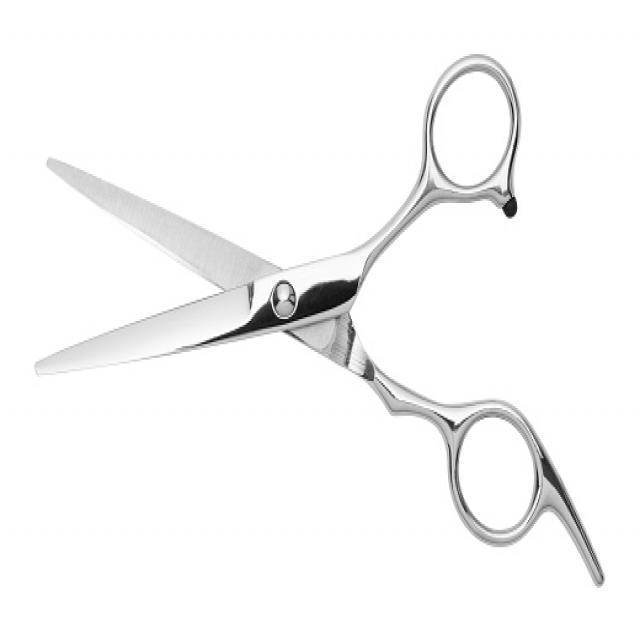scissors: (28, 49, 607, 596)
